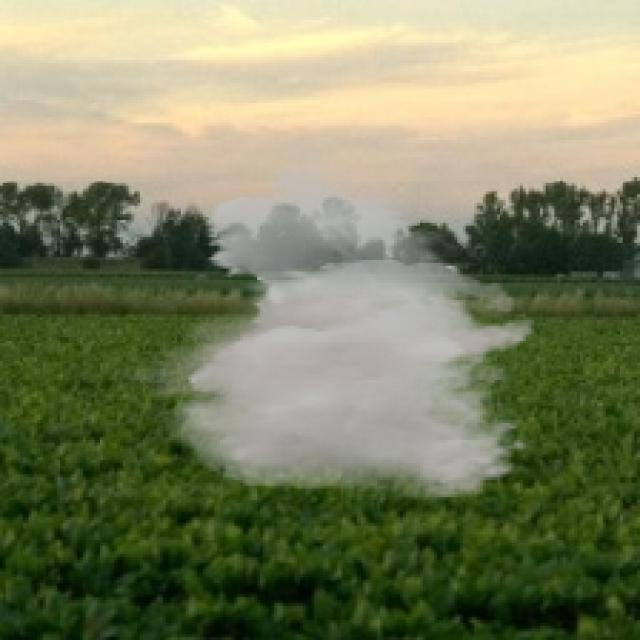Smoke: (120, 151, 537, 500)
